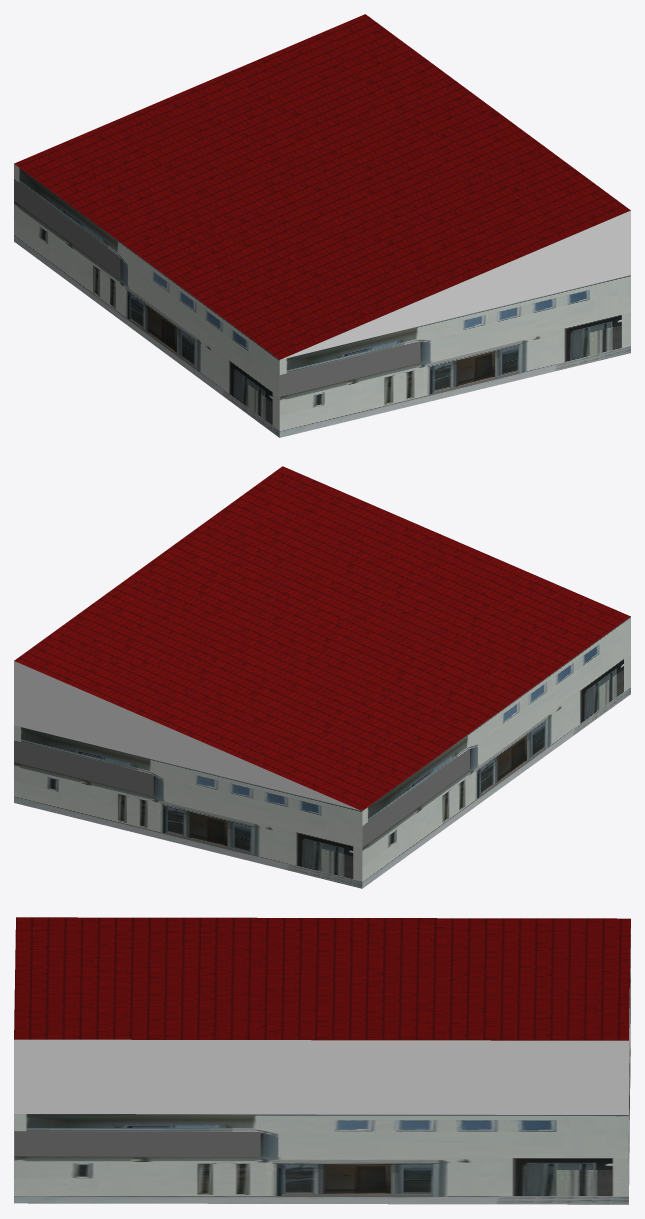
3 views of the same model, one above another, from view 1: azimuth 30°, elevation 25°; view 2: azimuth 150°, elevation 25°; view 3: azimuth 270°, elevation 25° (orthographic). The views are drawn at different scales.
Parts seen in each view (by area): view 1: CityEngineMaterial_17_m, CityEngineMaterial_11_m, CityEngineMaterial_3_m; view 2: CityEngineMaterial_17_m, CityEngineMaterial_11_m, CityEngineMaterial_3_m; view 3: CityEngineMaterial_17_m, CityEngineMaterial_11_m, CityEngineMaterial_3_m.
Part boxes in pixels (x1=…): CityEngineMaterial_17_m: x1=14, y1=14, x2=630, y2=359; CityEngineMaterial_11_m: x1=14, y1=164, x2=630, y2=437; CityEngineMaterial_3_m: x1=280, y1=210, x2=630, y2=359; CityEngineMaterial_17_m: x1=14, y1=466, x2=630, y2=810; CityEngineMaterial_11_m: x1=14, y1=617, x2=630, y2=888; CityEngineMaterial_3_m: x1=14, y1=661, x2=361, y2=810; CityEngineMaterial_17_m: x1=14, y1=917, x2=630, y2=1040; CityEngineMaterial_11_m: x1=14, y1=935, x2=630, y2=1204; CityEngineMaterial_3_m: x1=14, y1=929, x2=630, y2=1114.
Bounding box in the file's own units: 27.81 × 10.75 × 36.68.
